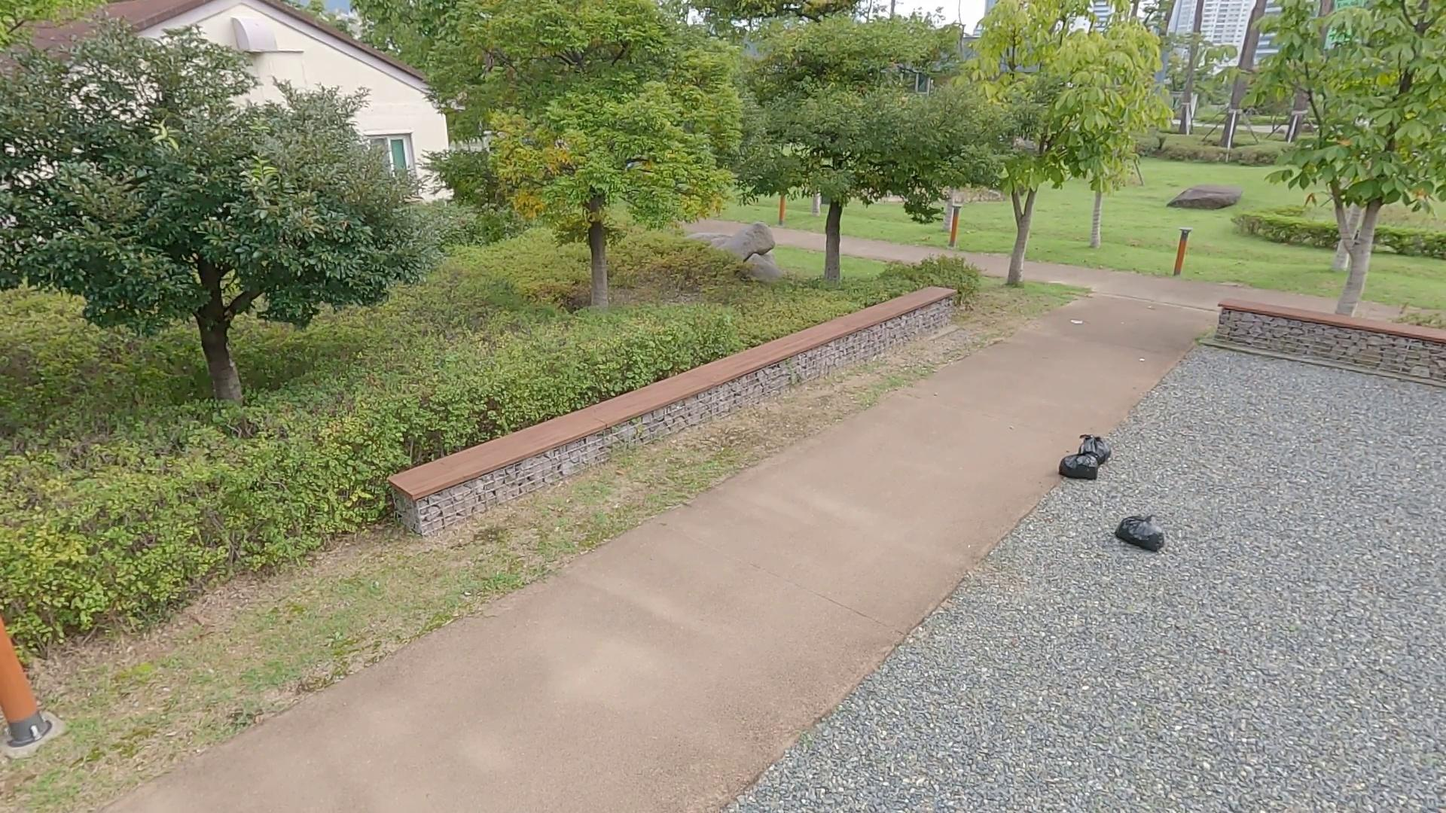trash: (1115, 508, 1167, 556), (1060, 443, 1106, 487), (1072, 425, 1112, 466)
